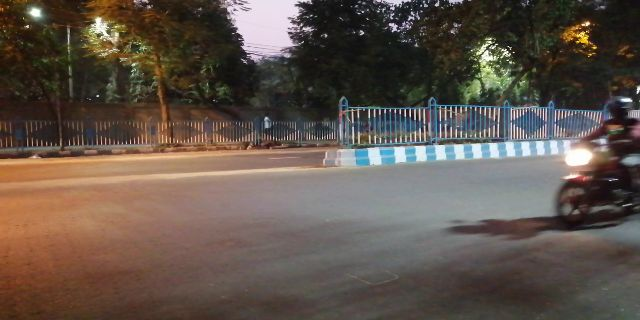Motorbike: (548, 99, 640, 222)
